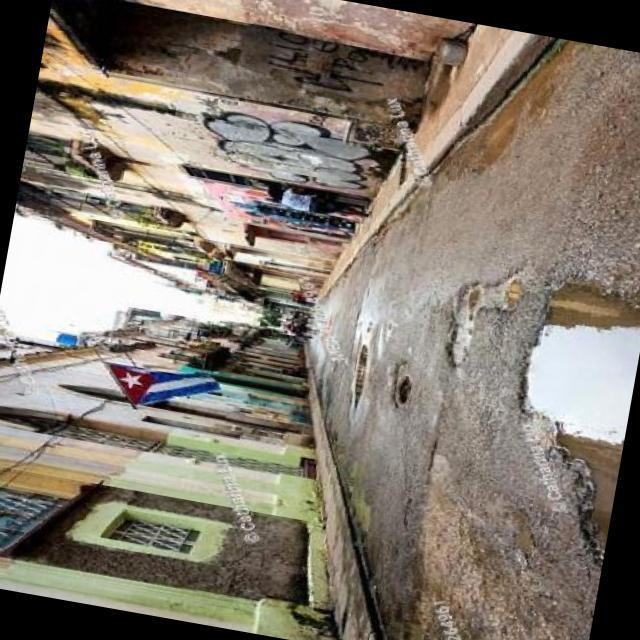pothole: (479, 248, 640, 533), (430, 270, 490, 372), (339, 330, 379, 418), (378, 347, 420, 418)
